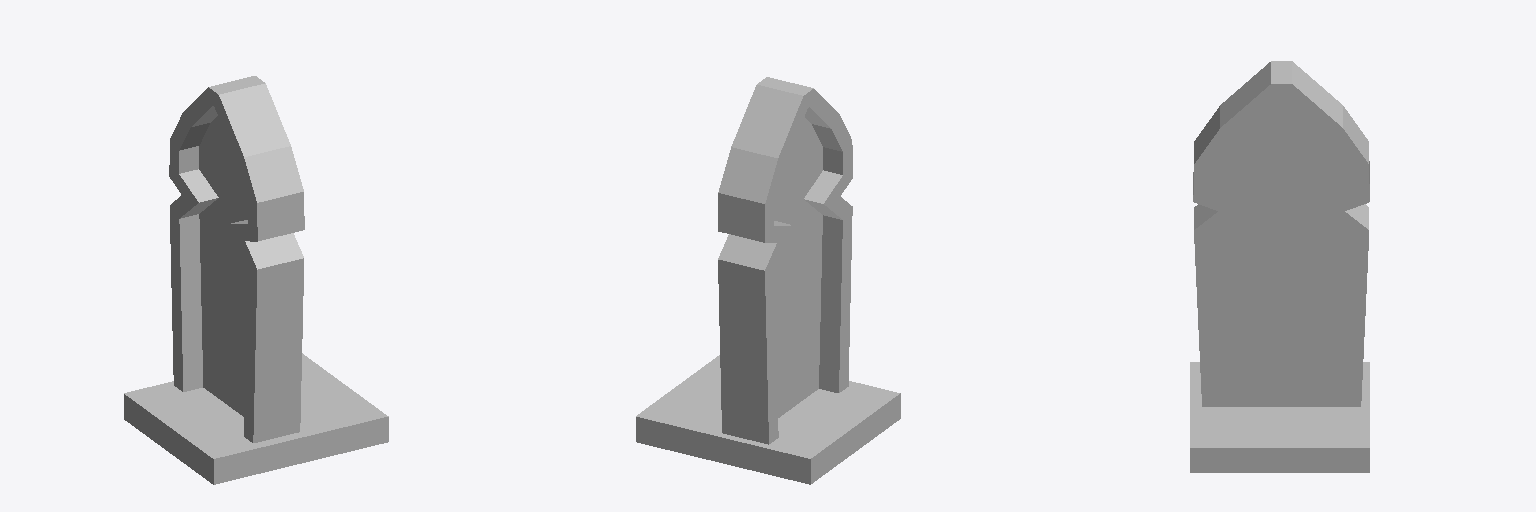
Rendered from BG_PORTE.obj.
3 renders of one model, left to right at view 1: azimuth 30°, elevation 25°; view 2: azimuth 150°, elevation 25°; view 3: azimuth 270°, elevation 25°, orthographic.
Parts seen in each view (by area): view 1: Porte3; view 2: Porte3; view 3: Porte3.
Boxes of the visible parts, x1=… form: Porte3: x1=124, y1=76, x2=388, y2=484; Porte3: x1=636, y1=77, x2=900, y2=484; Porte3: x1=1190, y1=61, x2=1369, y2=472.
Size of the model in its own units: 148 by 282 by 132.